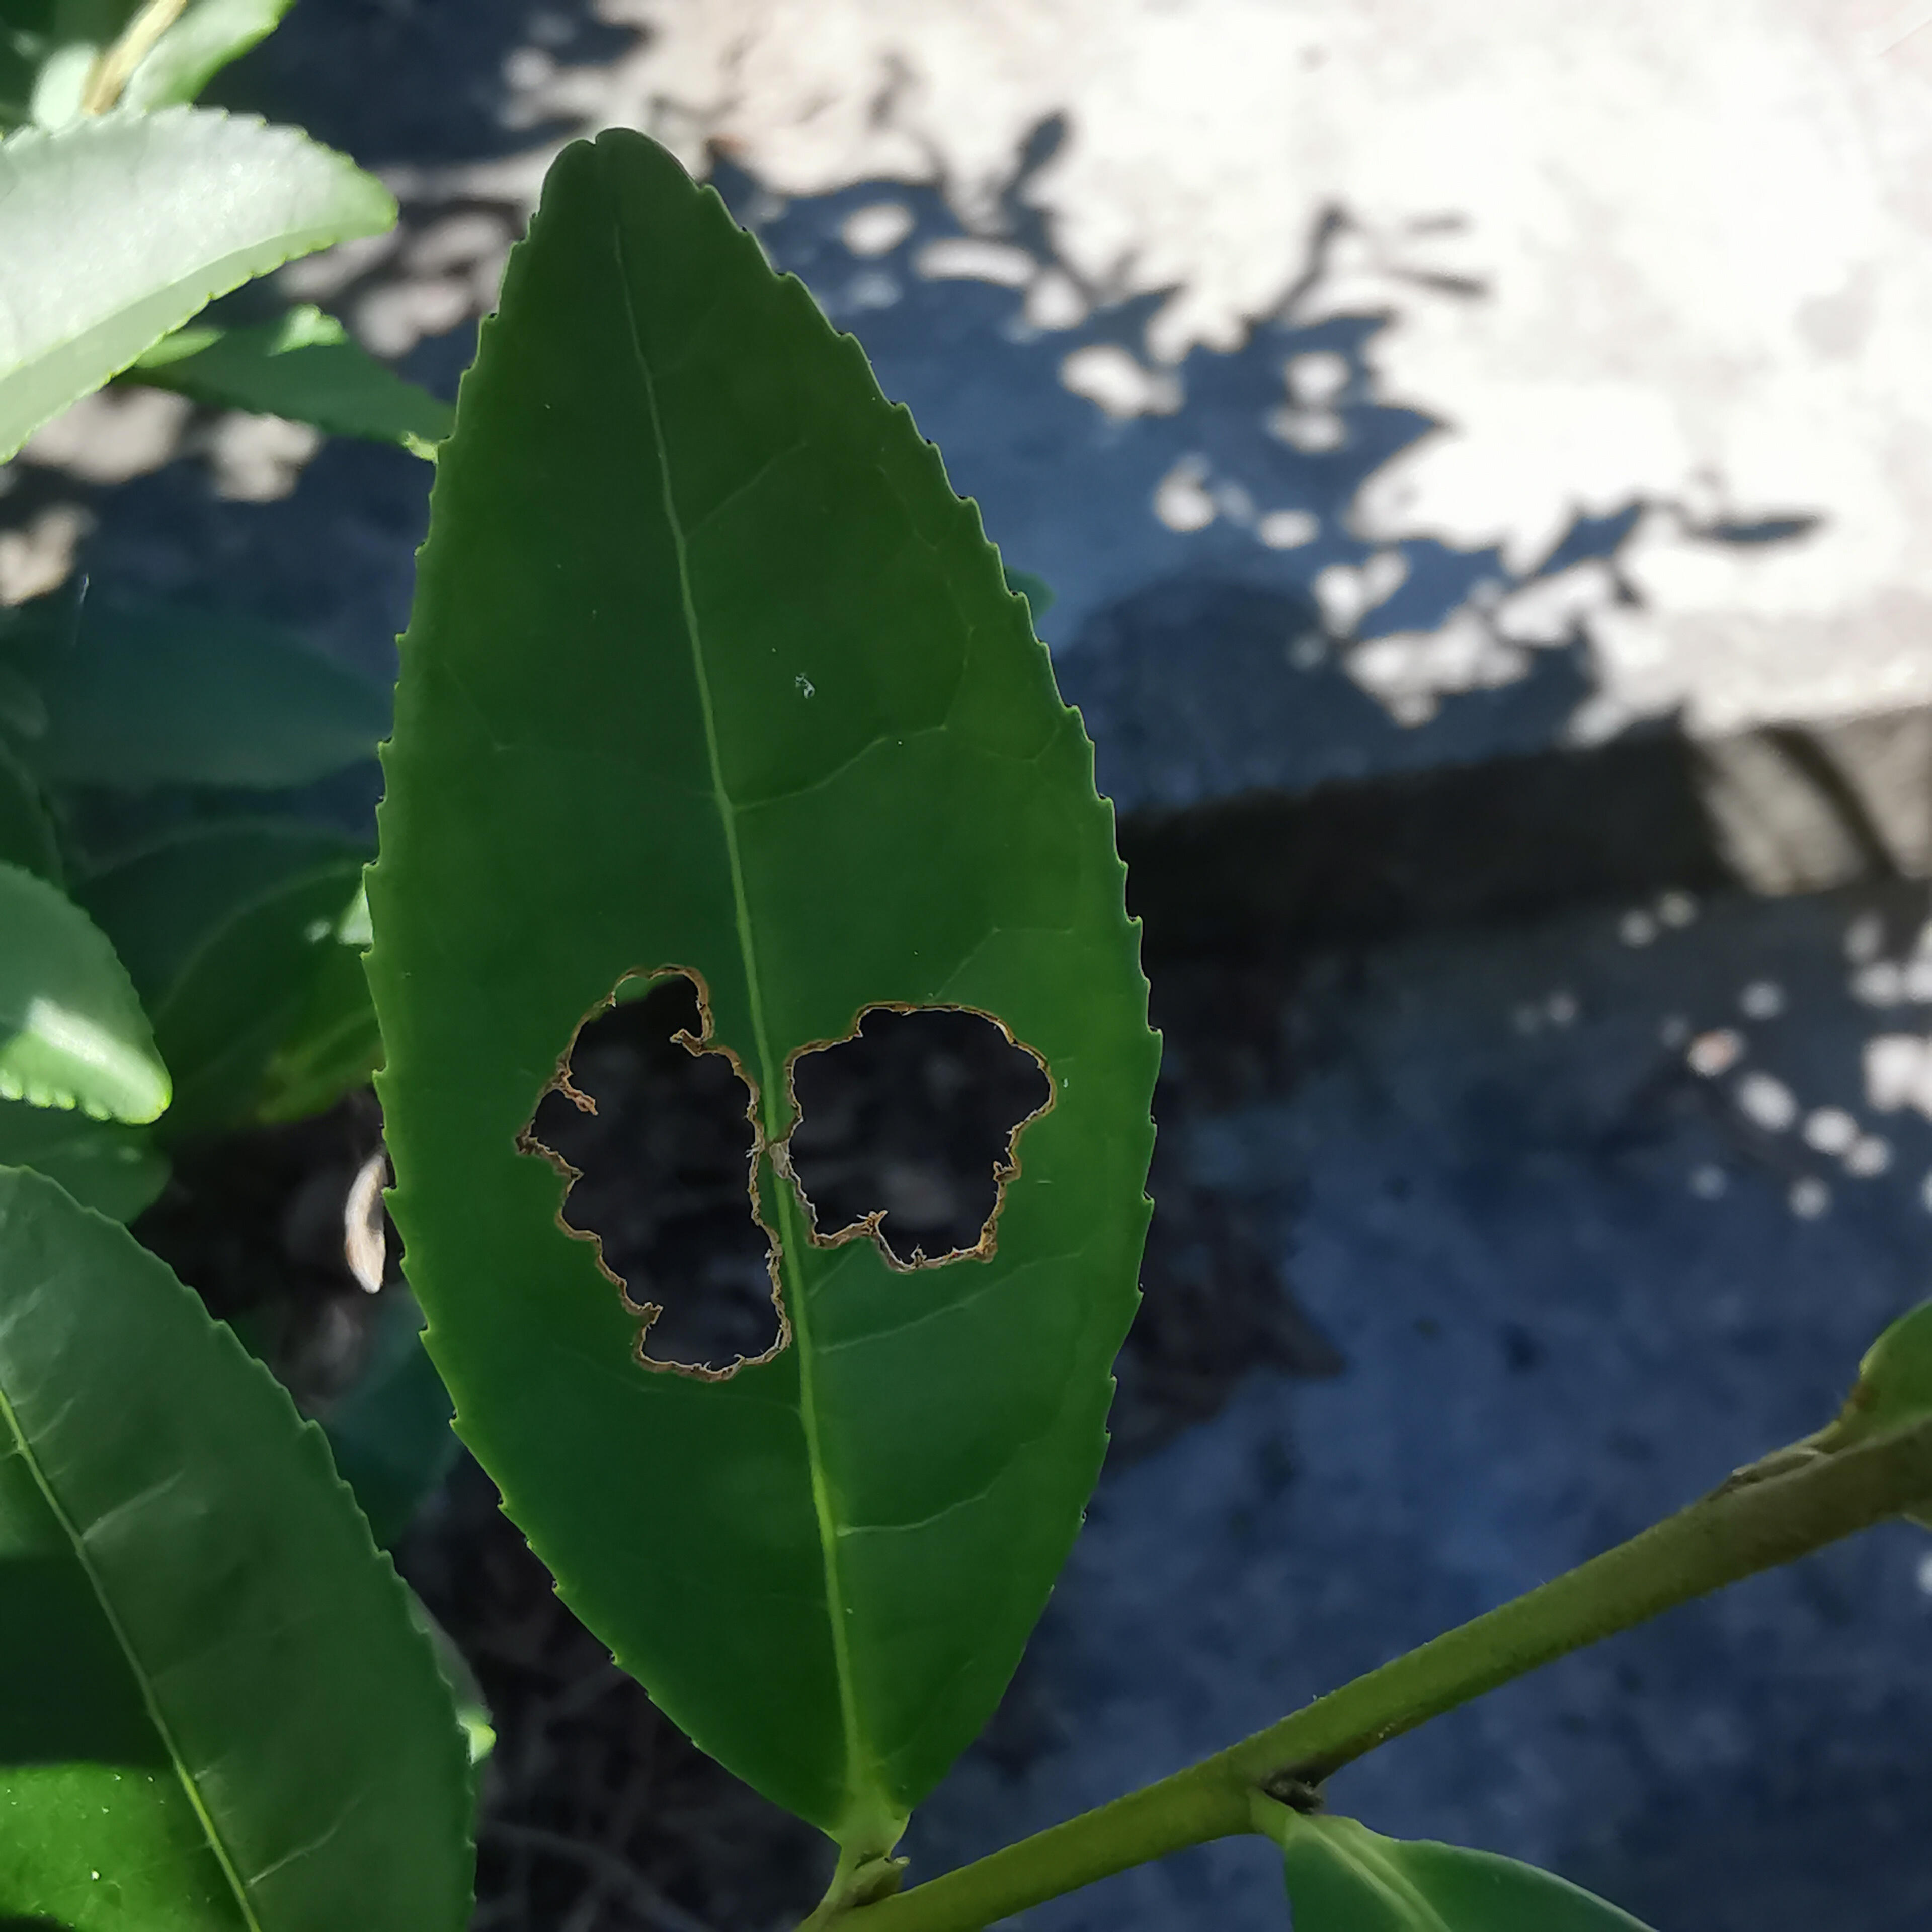chihuo_high: (357, 129, 1175, 1858)
